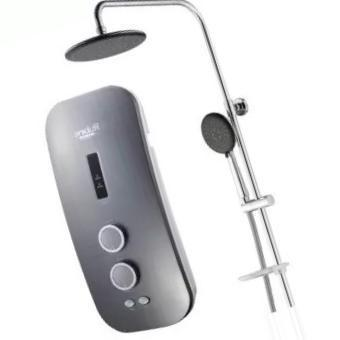Ducha: (34, 0, 298, 339)
